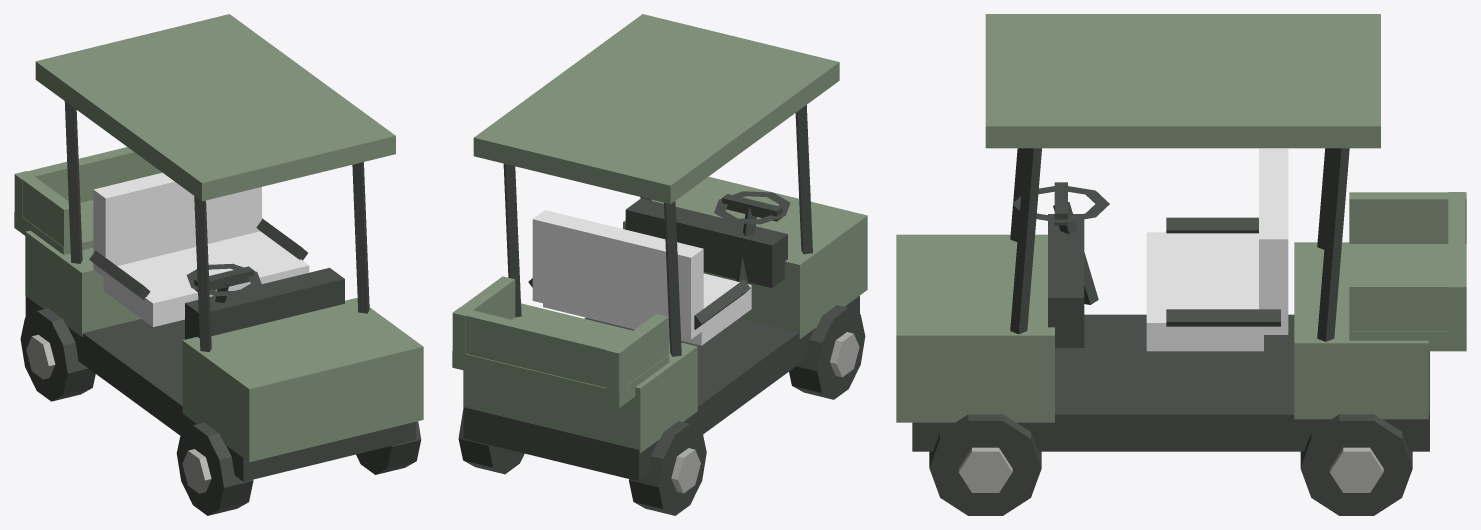
File: golf_cart_03.glb
3 views of the same model, side by side, from view 1: azimuth 30°, elevation 25°; view 2: azimuth 150°, elevation 25°; view 3: azimuth 270°, elevation 25° (orthographic). The views are drawn at different scales.
Parts seen in each view (by area): view 1: Golf_cart_03; view 2: Golf_cart_03; view 3: Golf_cart_03.
Boxes of the visible parts, <box> form: Golf_cart_03: <box>14,14,423,515</box>; Golf_cart_03: <box>452,14,867,515</box>; Golf_cart_03: <box>896,14,1466,515</box>.
Size of the model in its own units: 1.22 by 1.82 by 2.42.
